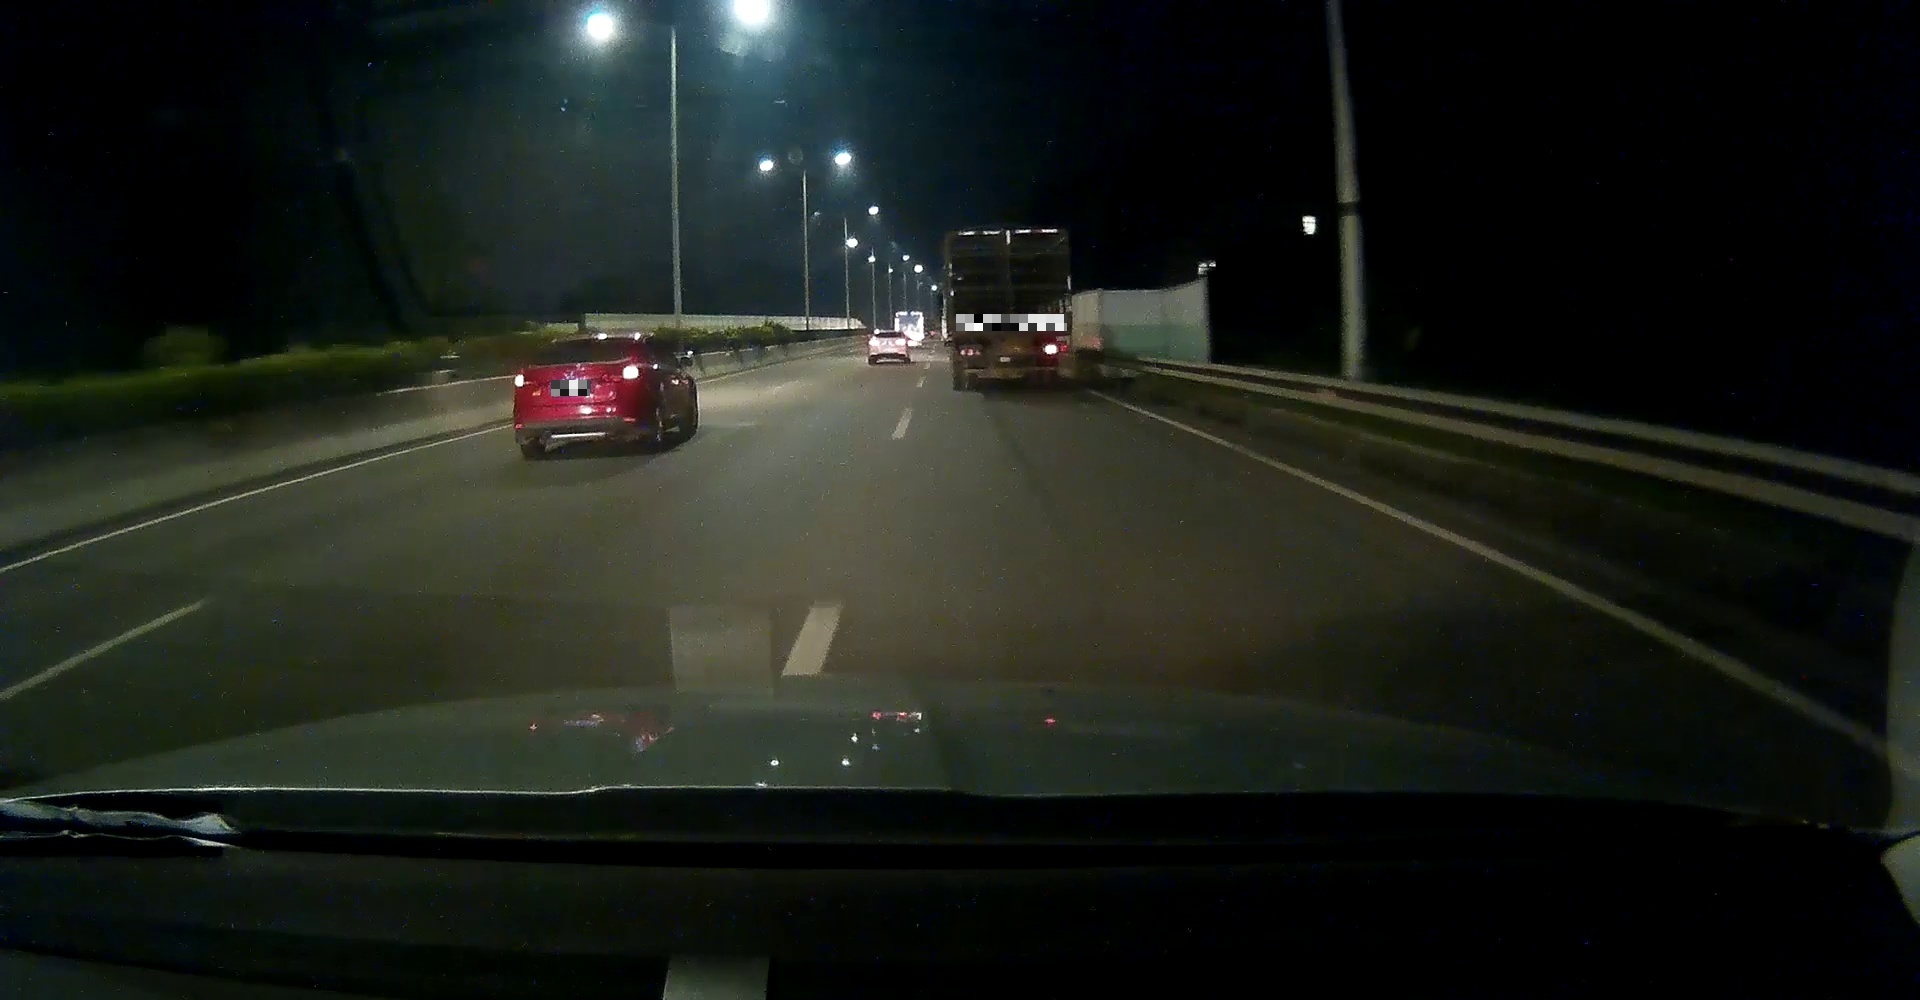L_light: (514, 373, 538, 388), (957, 346, 982, 357), (870, 339, 879, 346)
R_light: (608, 363, 643, 381), (1043, 343, 1068, 355), (895, 339, 905, 346)
T_light: (998, 230, 1016, 236), (584, 338, 599, 343), (886, 332, 894, 334)
night-no: (510, 331, 646, 459), (869, 329, 908, 365)
night-right: (945, 227, 1073, 392)
plate_1: (551, 379, 590, 396)
plate_2: (956, 313, 1067, 331)
